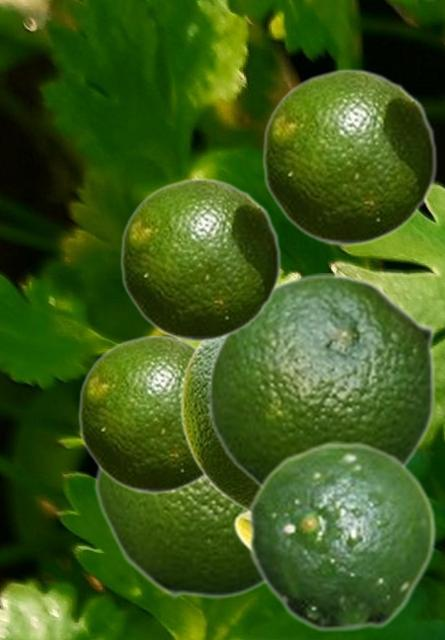calamansi: (207, 273, 436, 489), (247, 441, 436, 632), (261, 68, 437, 245), (119, 177, 281, 341), (93, 467, 265, 598), (77, 334, 205, 493), (180, 341, 256, 551)
